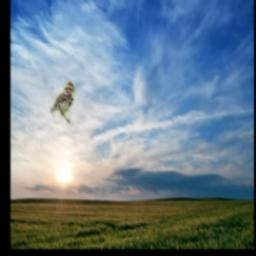Sparrow: (42, 81, 75, 125)
